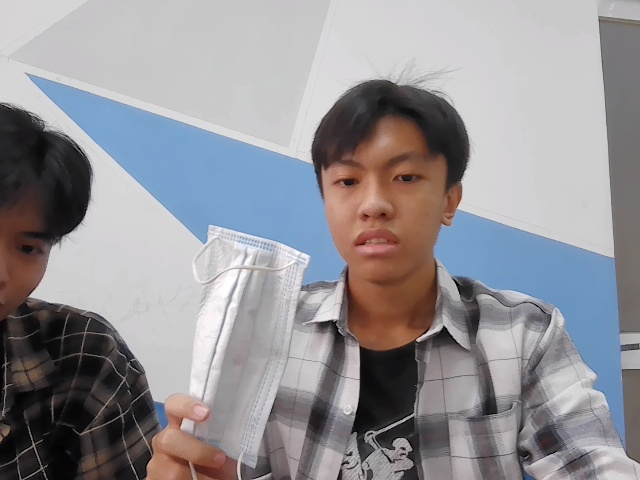human: (312, 76, 465, 274), (1, 102, 93, 320)
mask: (184, 217, 310, 461)
